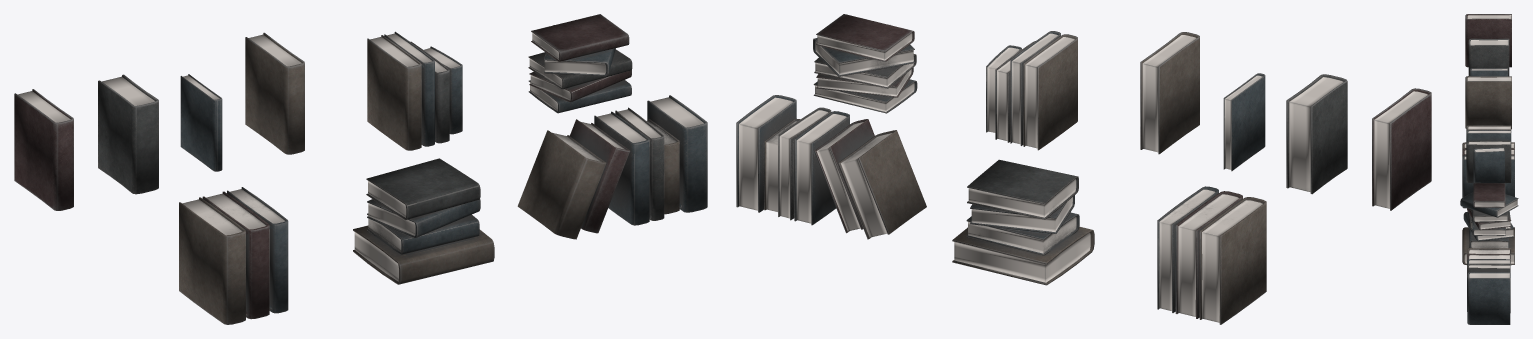
The model's file is Books_1A1.fbx.
3 views of the same model, side by side, from view 1: azimuth 30°, elevation 25°; view 2: azimuth 150°, elevation 25°; view 3: azimuth 270°, elevation 25° (orthographic). The views are drawn at different scales.
Parts seen in each view (by area): view 1: Book_Stack_1A5, Book_Stack_1A4, Book_Stack_1A3, Book_Stack_1A1, Book_Stack_1A2, Book_1A2, Book_1A4, Book_1A1, Book_1A3; view 2: Book_Stack_1A5, Book_Stack_1A3, Book_Stack_1A4, Book_Stack_1A1, Book_Stack_1A2, Book_1A2, Book_1A1, Book_1A4, Book_1A3; view 3: Book_Stack_1A5, Book_Stack_1A1, Book_1A4, Book_Stack_1A2, Book_1A1, Book_1A2, Book_Stack_1A4, Book_Stack_1A3, Book_1A3.
Boxes of the visible parts, x1,y1,x2,y2 form: Book_Stack_1A5: [517, 95, 707, 239]; Book_Stack_1A4: [353, 158, 494, 284]; Book_Stack_1A3: [179, 187, 288, 324]; Book_Stack_1A1: [367, 31, 462, 150]; Book_Stack_1A2: [528, 14, 632, 113]; Book_1A2: [98, 74, 158, 194]; Book_1A4: [245, 32, 304, 154]; Book_1A1: [14, 89, 73, 210]; Book_1A3: [180, 74, 222, 171]; Book_Stack_1A5: [736, 95, 926, 239]; Book_Stack_1A3: [1157, 186, 1266, 324]; Book_Stack_1A4: [952, 159, 1094, 285]; Book_Stack_1A1: [986, 31, 1077, 150]; Book_Stack_1A2: [813, 14, 917, 113]; Book_1A2: [1286, 74, 1347, 194]; Book_1A1: [1372, 88, 1431, 210]; Book_1A4: [1140, 32, 1199, 154]; Book_1A3: [1223, 73, 1265, 171]; Book_Stack_1A5: [1467, 248, 1510, 324]; Book_Stack_1A1: [1466, 125, 1511, 183]; Book_1A4: [1465, 76, 1511, 129]; Book_Stack_1A2: [1460, 182, 1518, 235]; Book_1A1: [1465, 14, 1511, 67]; Book_1A2: [1468, 38, 1509, 76]; Book_Stack_1A4: [1462, 211, 1514, 265]; Book_Stack_1A3: [1462, 142, 1514, 208]; Book_1A3: [1470, 68, 1507, 76].
Bounding box in the file's own units: 322 × 115 × 44.78.
